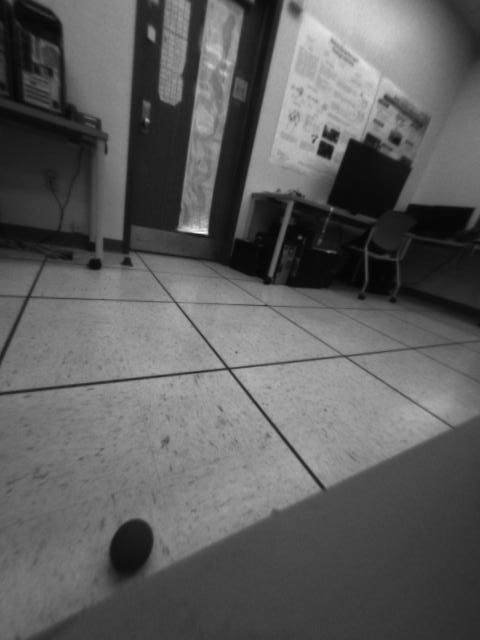dogtoy: (100, 511, 161, 579)
